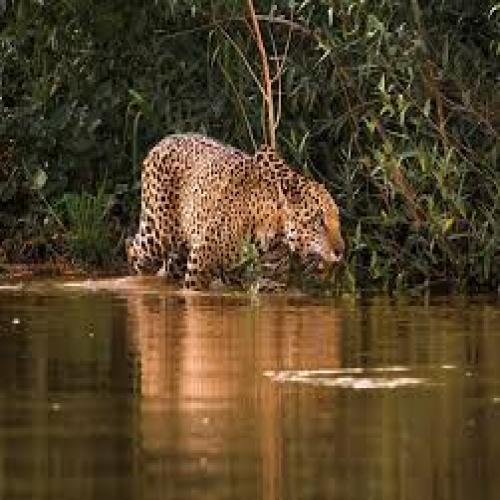jaguar_not-endangered: (135, 133, 345, 295), (128, 350, 130, 352)
